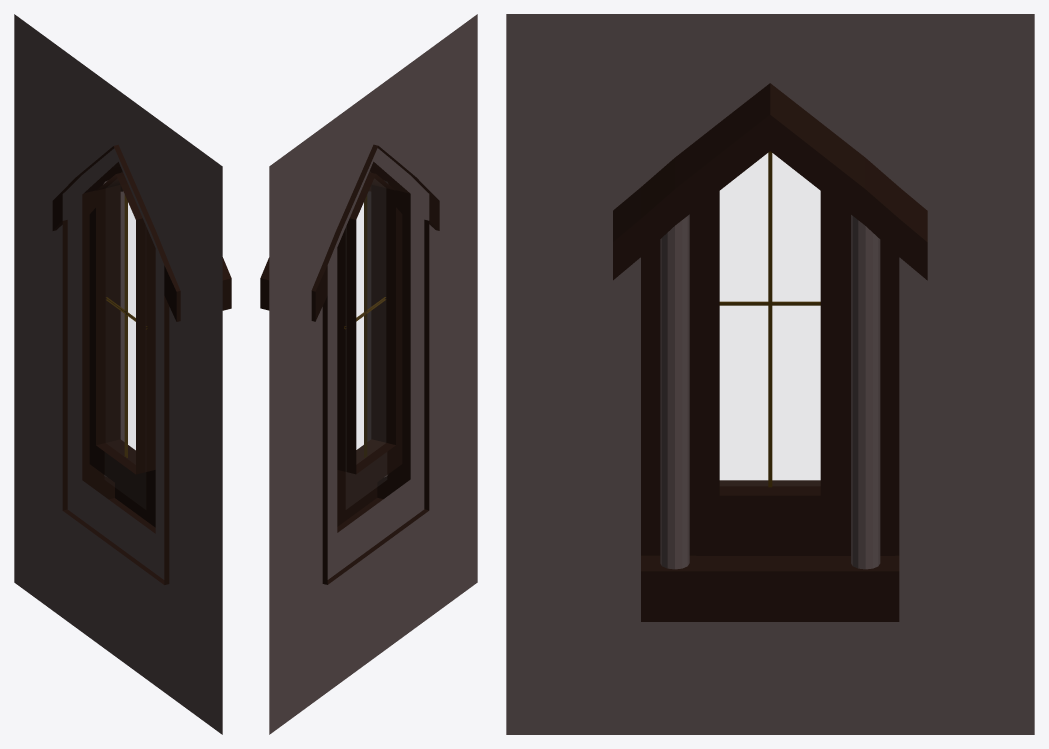
The model's file is Pared_Ventanal_04.fbx.
The picture shows the model from 3 angles, left to right: view 1: azimuth 30°, elevation 25°; view 2: azimuth 150°, elevation 25°; view 3: azimuth 270°, elevation 25°; orthographic projection. The views are drawn at different scales.
Visible parts, largest first — view 1: polySurface30, Ventanal, Columna_02, Barrote; view 2: polySurface30, Ventanal, Columna_01, Barrote; view 3: polySurface30, Ventanal, Columna_01, Columna_02, Barrote.
Part boxes in pixels (x1,y1,x2,y2): polySurface30: (14, 14, 222, 734); Ventanal: (52, 144, 231, 584); Columna_02: (103, 180, 124, 477); Barrote: (106, 195, 147, 457); polySurface30: (269, 14, 477, 734); Ventanal: (260, 144, 439, 584); Columna_01: (367, 180, 388, 477); Barrote: (344, 195, 386, 457); polySurface30: (506, 14, 1034, 734); Ventanal: (613, 83, 927, 621); Columna_01: (660, 214, 689, 569); Columna_02: (851, 215, 880, 569); Barrote: (719, 151, 820, 487).
Size of the model in its own units: 1.86 by 18 by 11.95.
